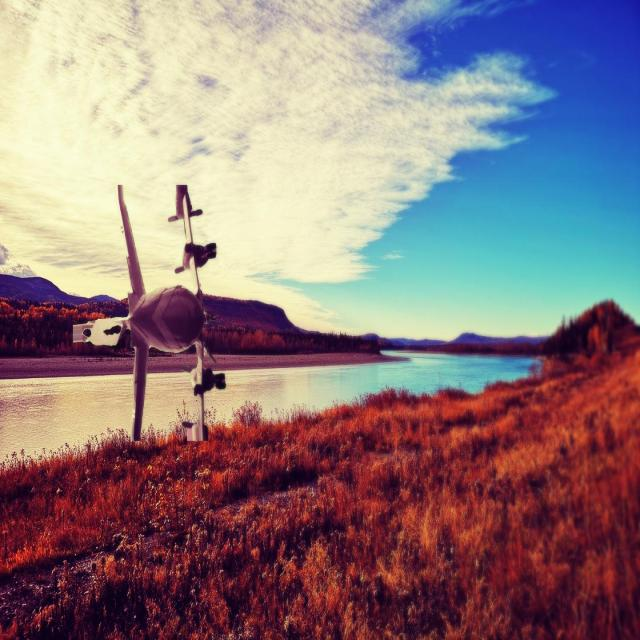airplane: (72, 182, 226, 442)
